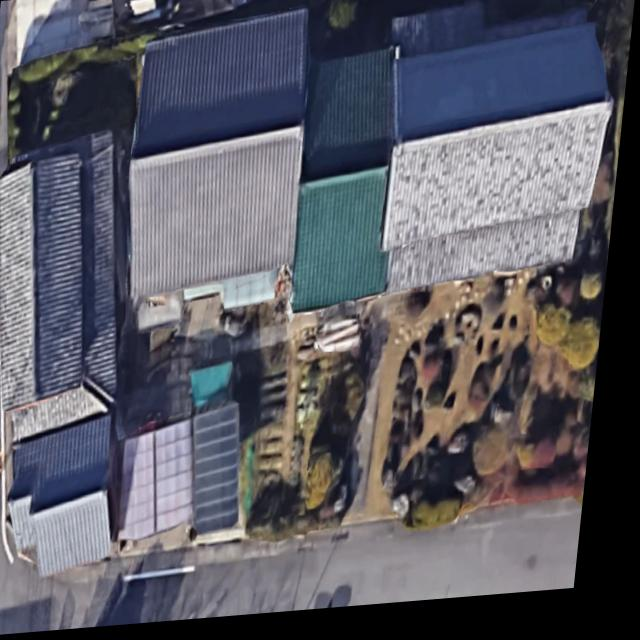Batiment: (386, 34, 615, 298), (1, 132, 125, 577), (132, 13, 309, 308), (299, 54, 395, 316), (129, 423, 203, 542), (202, 407, 249, 537)
